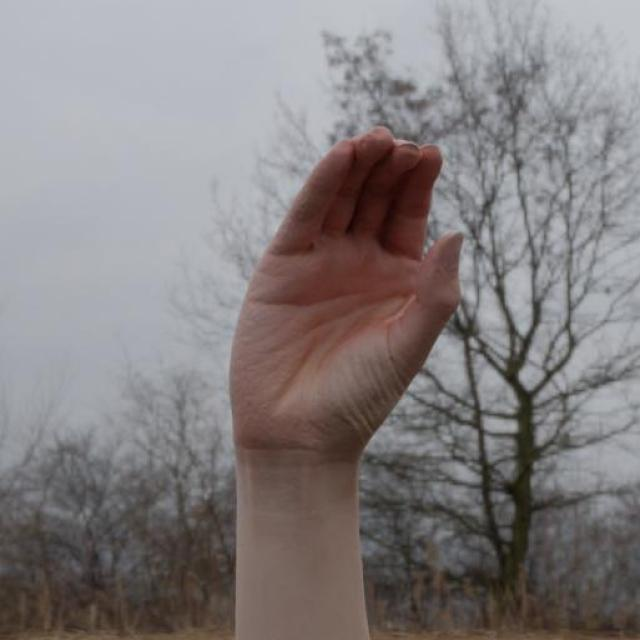C: (192, 98, 504, 562)
